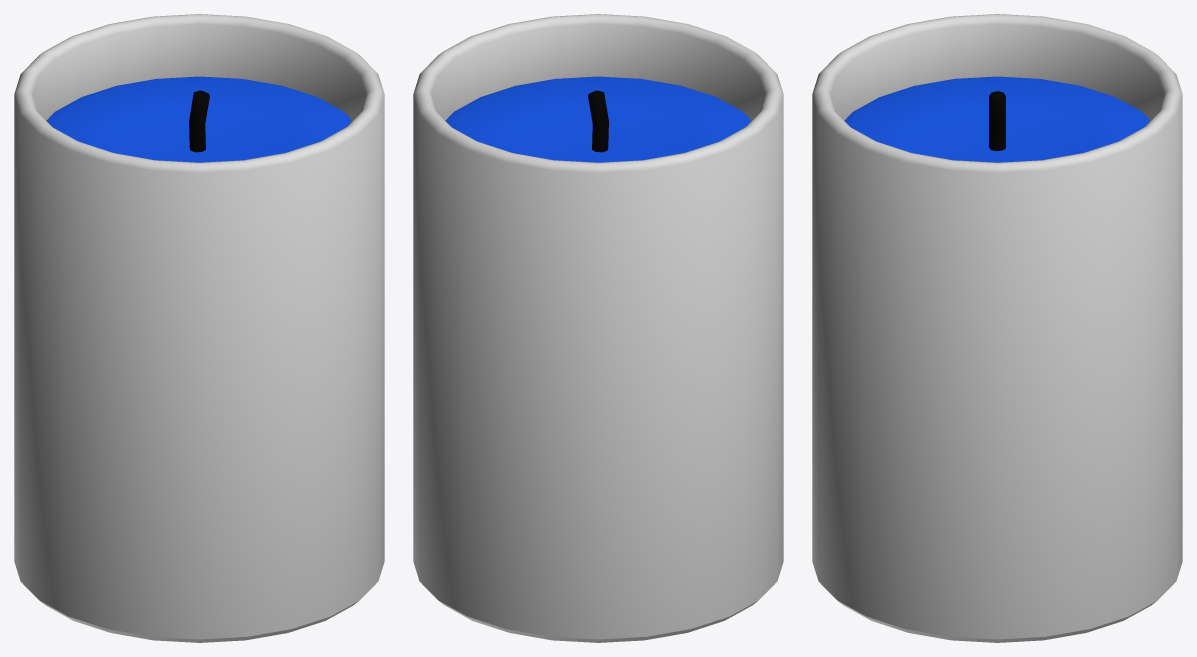
Rendered from Candle_Small_Round.fbx.
3 renders of one model, left to right at view 1: azimuth 30°, elevation 25°; view 2: azimuth 150°, elevation 25°; view 3: azimuth 270°, elevation 25°, orthographic.
Parts seen in each view (by area): view 1: Candle_Small_Round; view 2: Candle_Small_Round; view 3: Candle_Small_Round.
Part boxes in pixels (x1,y1,x2,y2): Candle_Small_Round: (14,14,384,642); Candle_Small_Round: (413,14,783,642); Candle_Small_Round: (812,14,1182,642).
Size of the model in its own units: 8.1 by 11.54 by 8.1.
